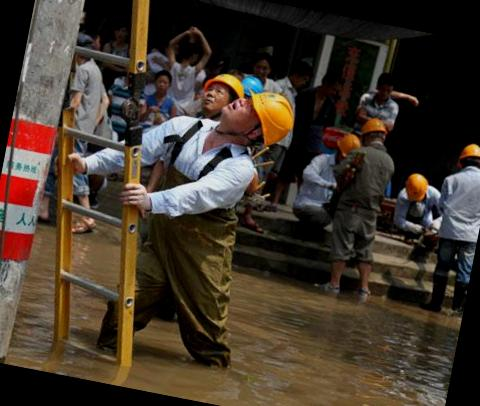no_helmet: (282, 58, 316, 92), (171, 36, 203, 72), (246, 51, 278, 84), (371, 68, 400, 104), (149, 68, 179, 100), (319, 68, 345, 98), (108, 18, 132, 48)
